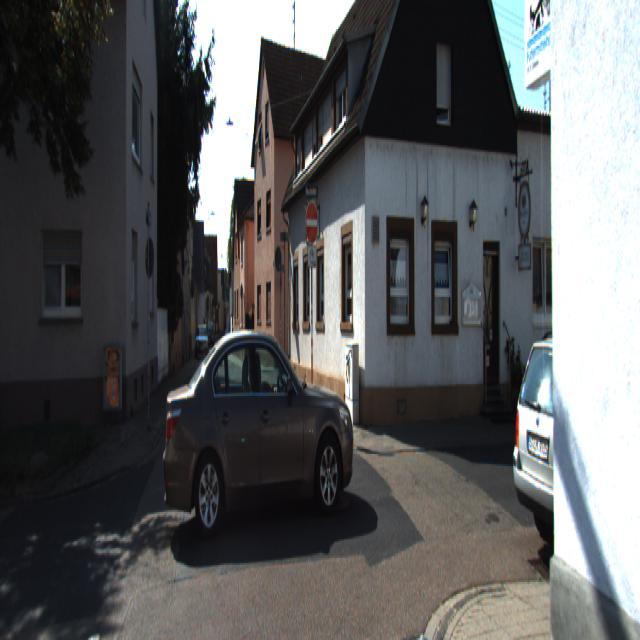Car: (163, 323, 357, 549), (510, 322, 640, 560)
